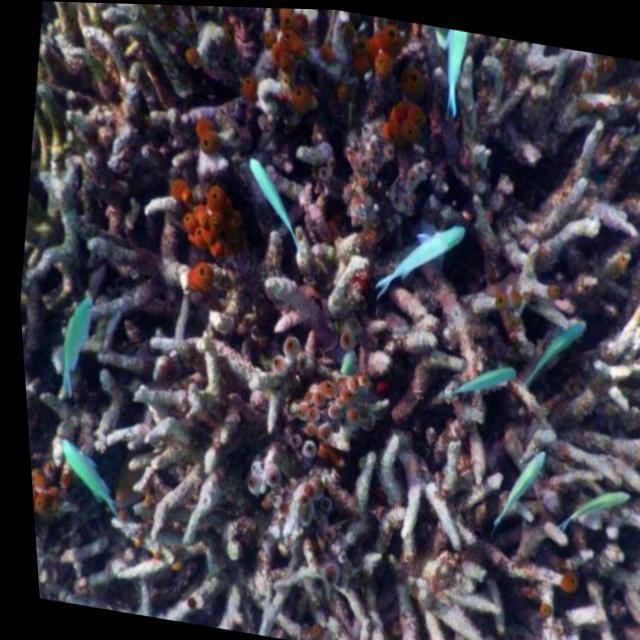Dead Coral: (118, 42, 640, 601)
